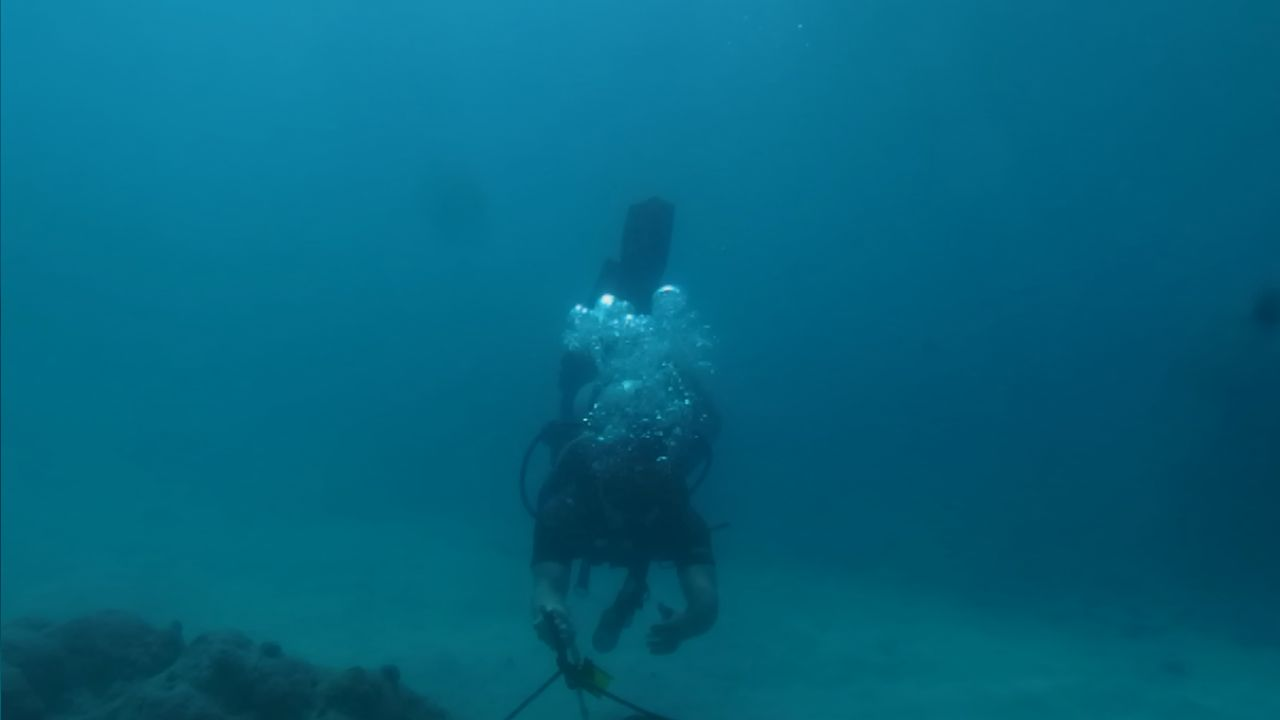Diver: (460, 198, 768, 694)
